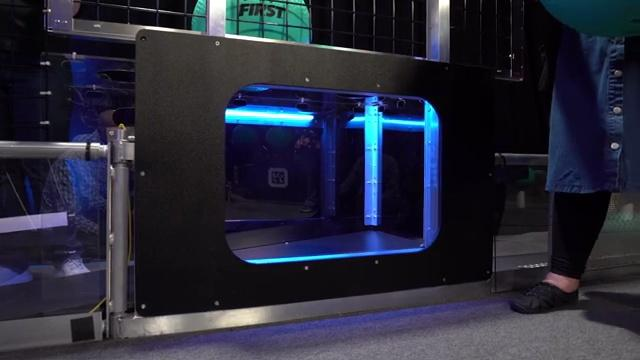ALGAE: (189, 0, 312, 44), (537, 0, 639, 38)
